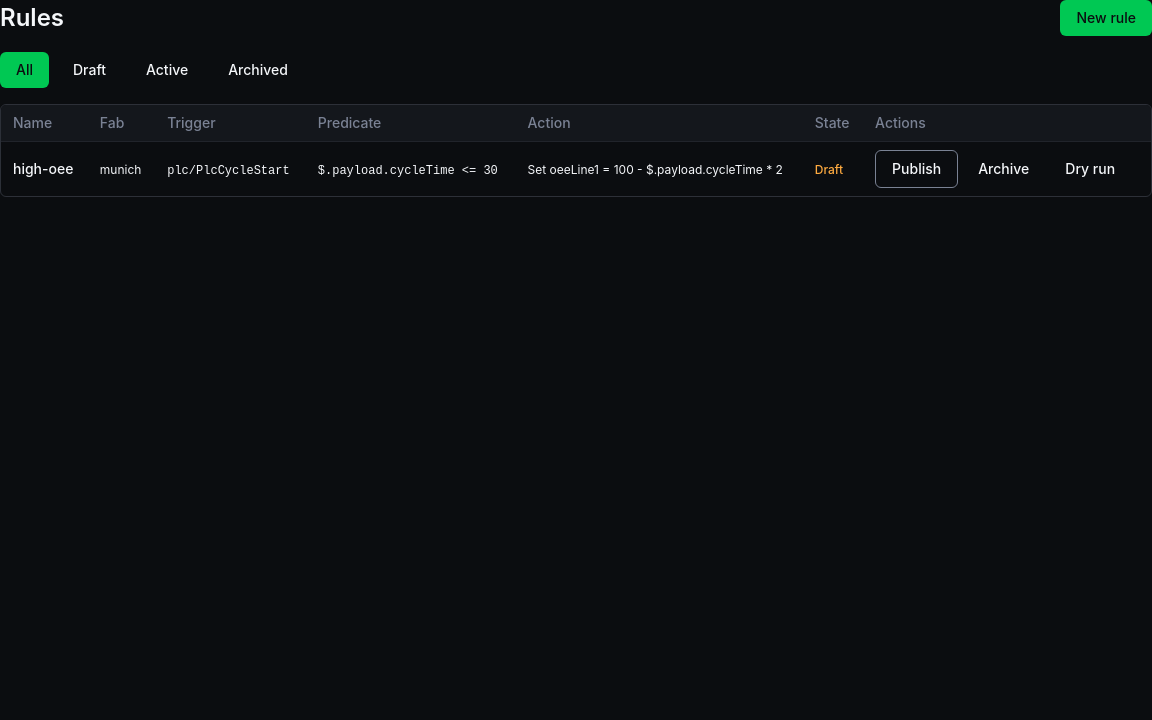
Test: RulesPage › Names the rule and says a replacement means cloning it
Step 1. Click the button "Archive" → coordinates (1004, 169), box x1=962 y1=150 x2=1045 y2=188
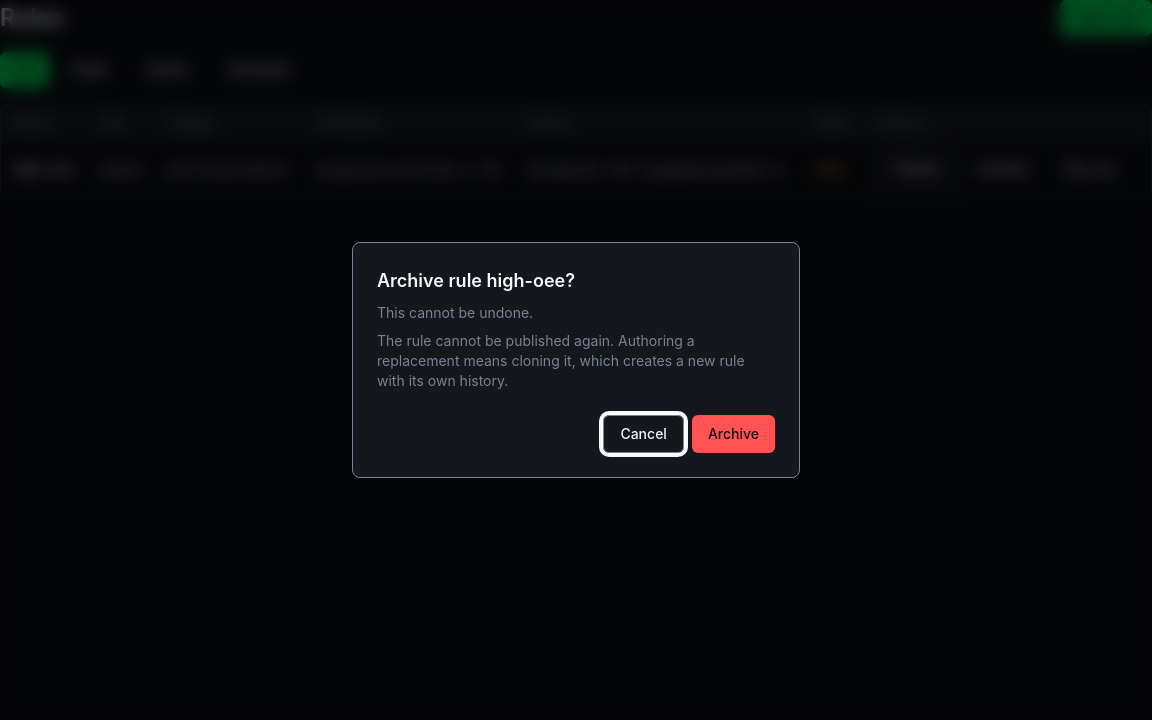
Expected: the dialog shows "high-oee", x1=377 y1=270 x2=575 y2=291
Expected: the dialog shows "cannot be published again", x1=377 y1=332 x2=745 y2=389
Expected: the dialog shows "cloning", x1=377 y1=332 x2=745 y2=389
